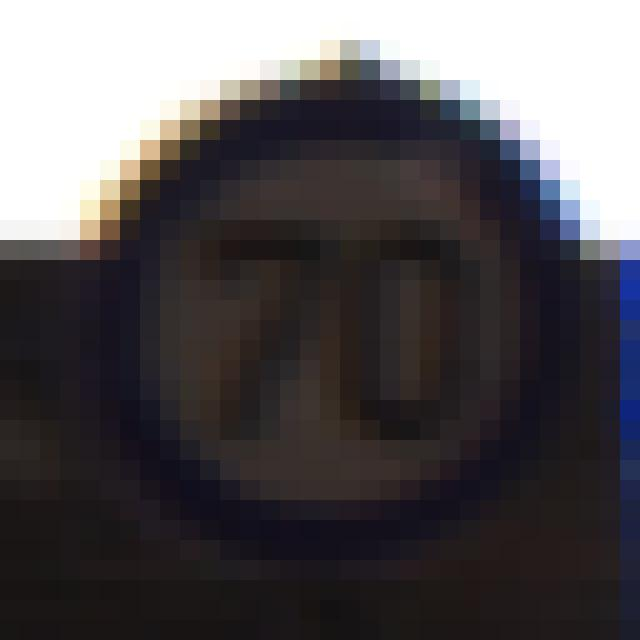SPEED LIMIT 70: (116, 73, 574, 515)
